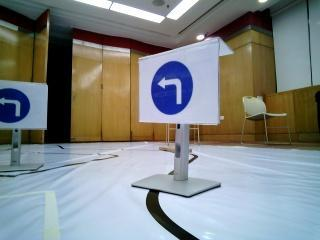left: (147, 60, 213, 123), (2, 80, 50, 132)
